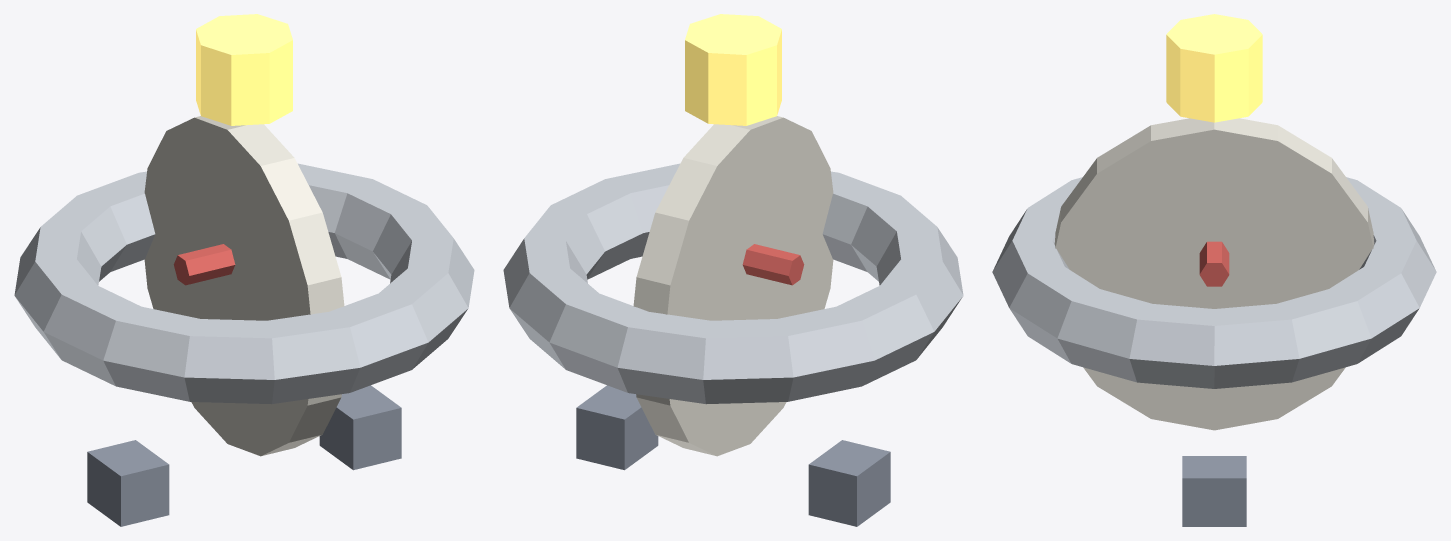
Rendered from watch.glb.
3 views of the same model, side by side, from view 1: azimuth 30°, elevation 25°; view 2: azimuth 150°, elevation 25°; view 3: azimuth 270°, elevation 25° (orthographic). The views are drawn at different scales.
Parts seen in each view (by area): view 1: PangWatchRim; view 2: PangWatchRim; view 3: PangWatchRim.
Part boxes in pixels (bbox=[...]): PangWatchRim: bbox=[14, 14, 474, 526]; PangWatchRim: bbox=[503, 14, 963, 526]; PangWatchRim: bbox=[992, 14, 1436, 526].
Size of the model in its own units: 0.83 by 0.88 by 0.83.
